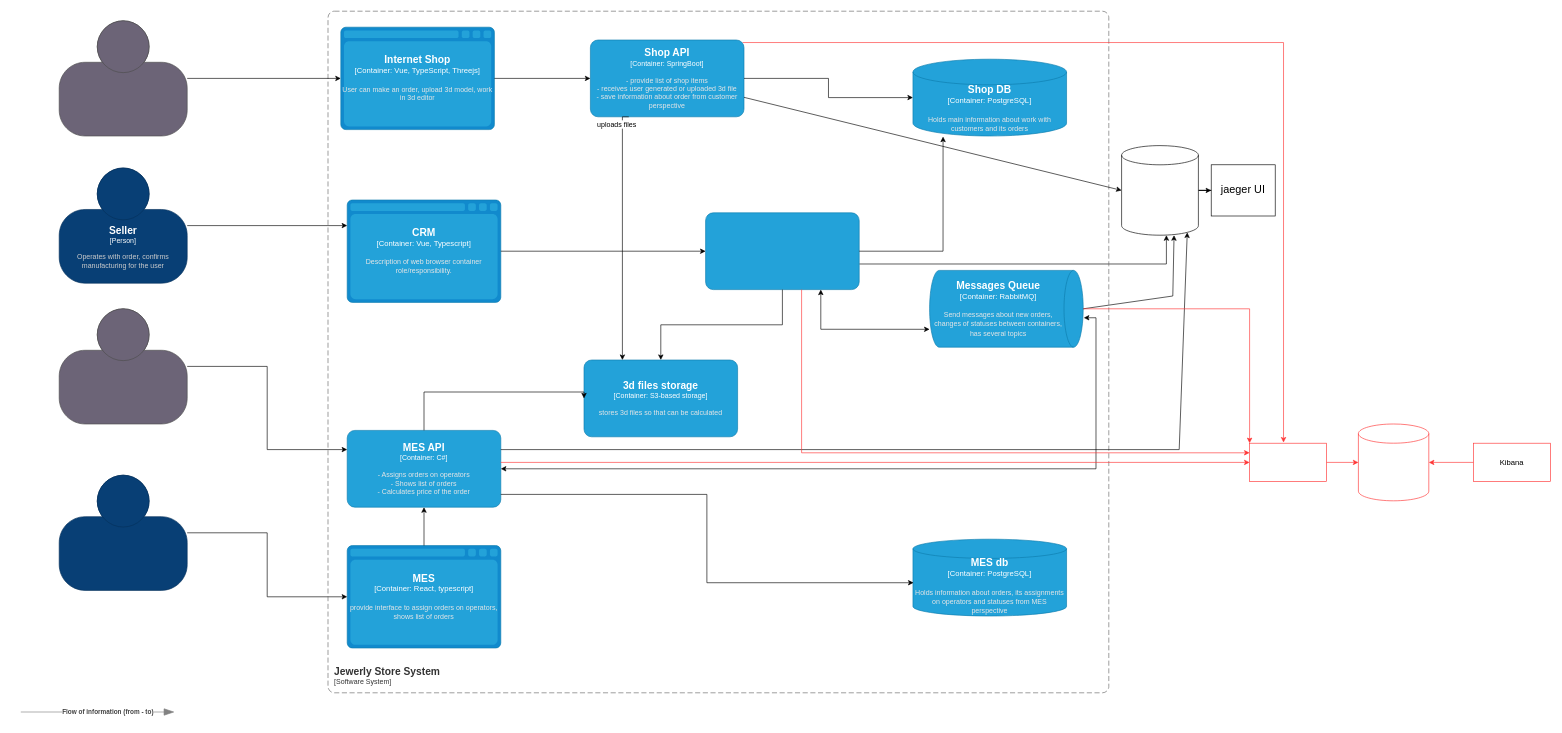
Some shapes in this 1562 by 733 pixel diagram are drawn without their labels. The centre of each missing label's shape, as x and y in pixels:
"API user [Person] Description of external person." belongs at (x=123, y=366).
"CRM API [Container: SpringBoot] Description of container role/responsibility." belongs at (x=782, y=251).
"Customer [Person] Description of external person." belongs at (x=123, y=78).
"Elasticsearch" belongs at (x=1393, y=462).
"jaeger" belongs at (x=1159, y=190).
"logstash" belongs at (x=1287, y=462).
"Operator [Person] Takes order in work, manufactures jewerly" belongs at (x=123, y=532).
